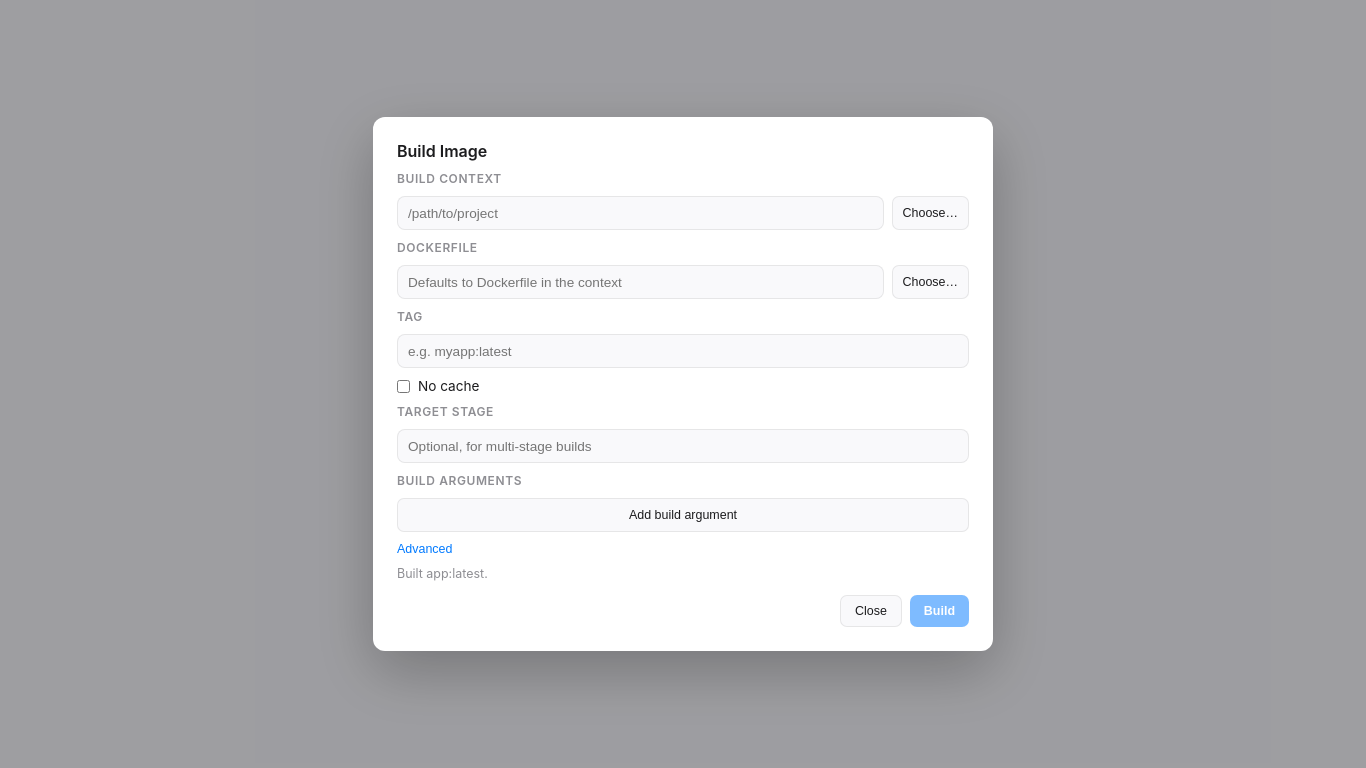
Scenario: BuildModal › drops the last build's outcome while a start error is showing
Expected: the text "Built app:latest." is shown, [397,566,488,581]
Type "/src/app" into the field labelled "Build context".
click(640, 213); type("/src/app")  # box [397,196,884,230]
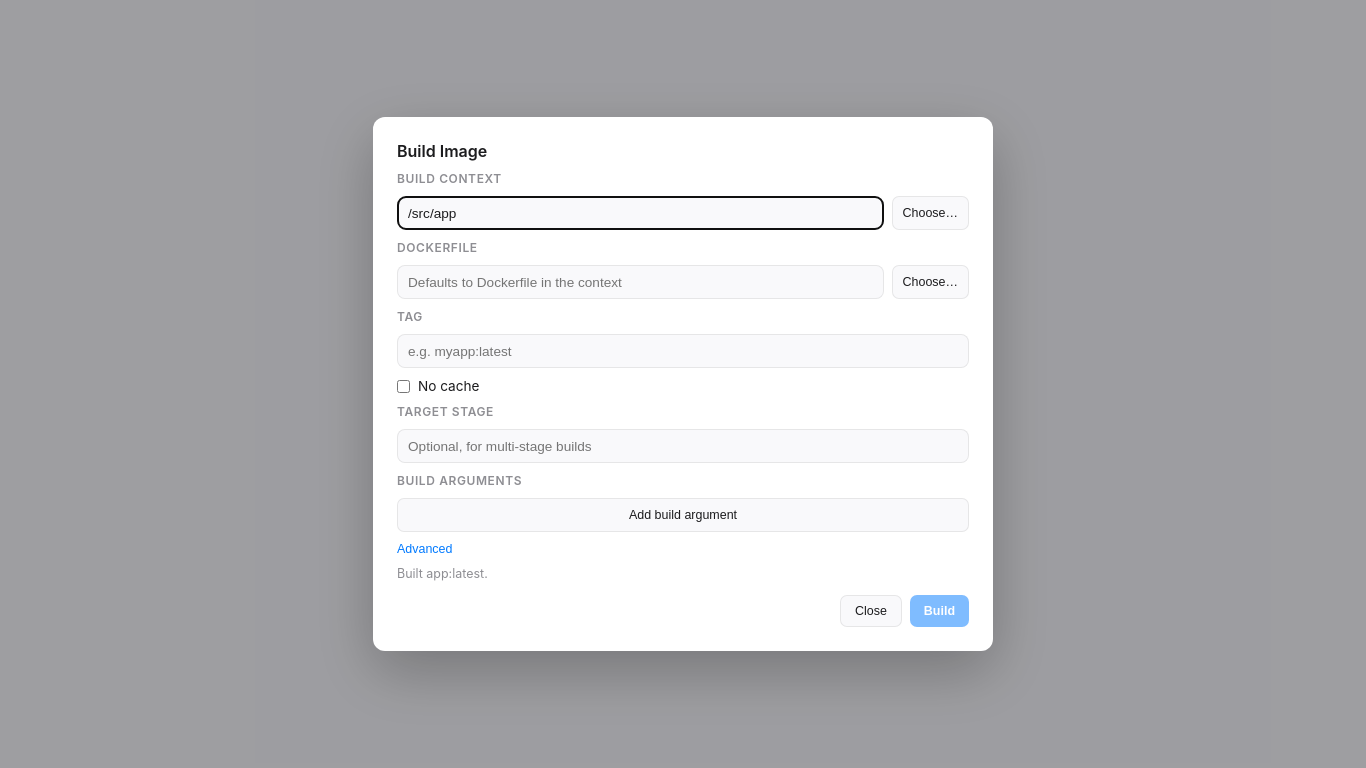
Type "app:latest" into the field labelled "Tag".
click(683, 351); type("app:latest")  # box [397,334,969,368]
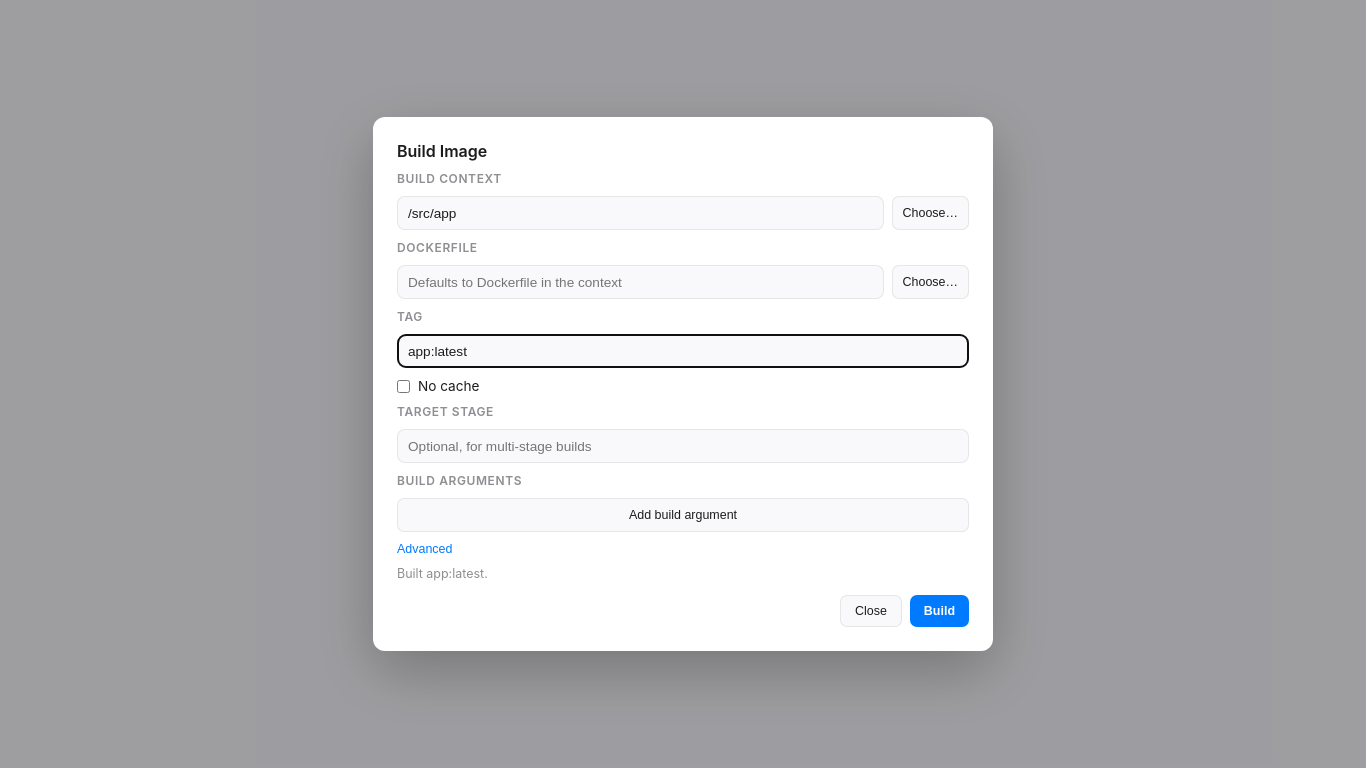
Click the button "Build".
click(939, 611)  # box [910,595,969,627]
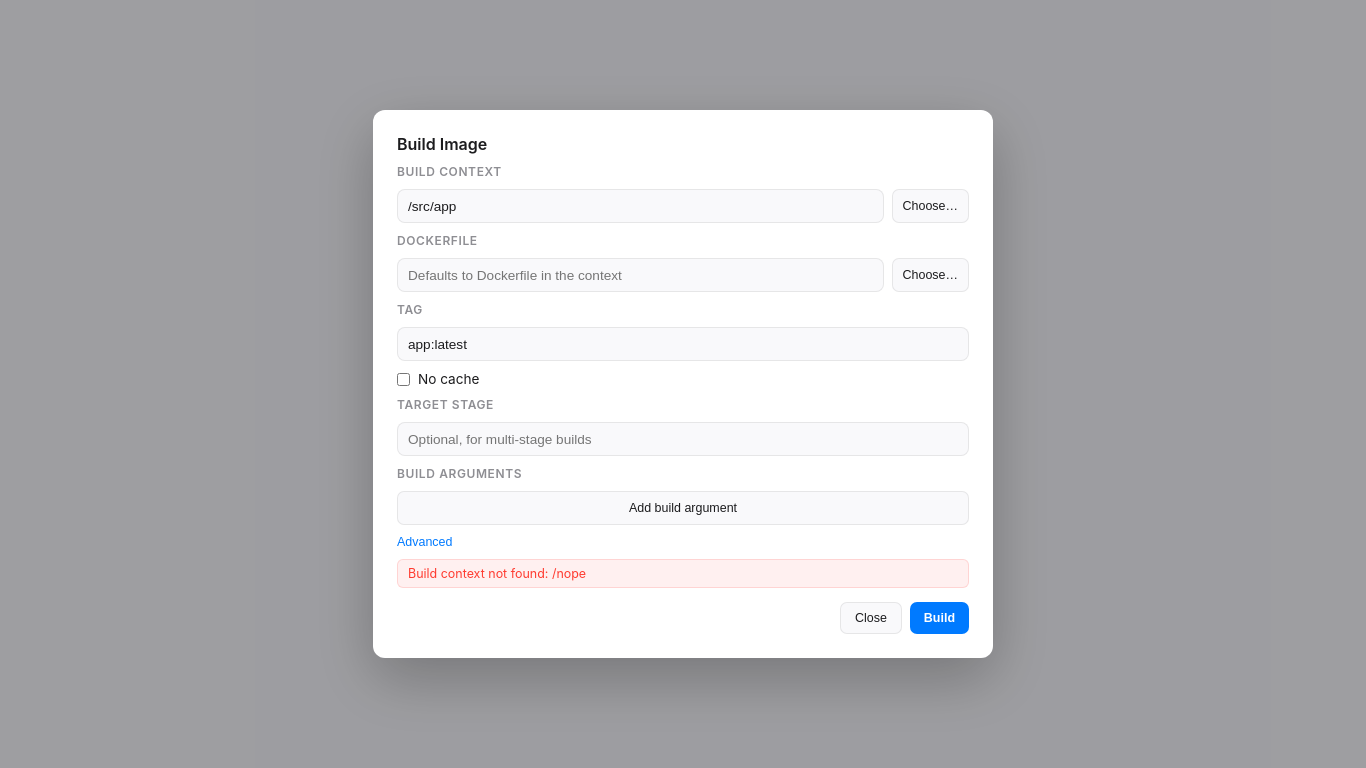
Result: the text "Build context not found: /nope" is shown at [397,559,969,588]
Result: the text "Built app:latest" is gone
